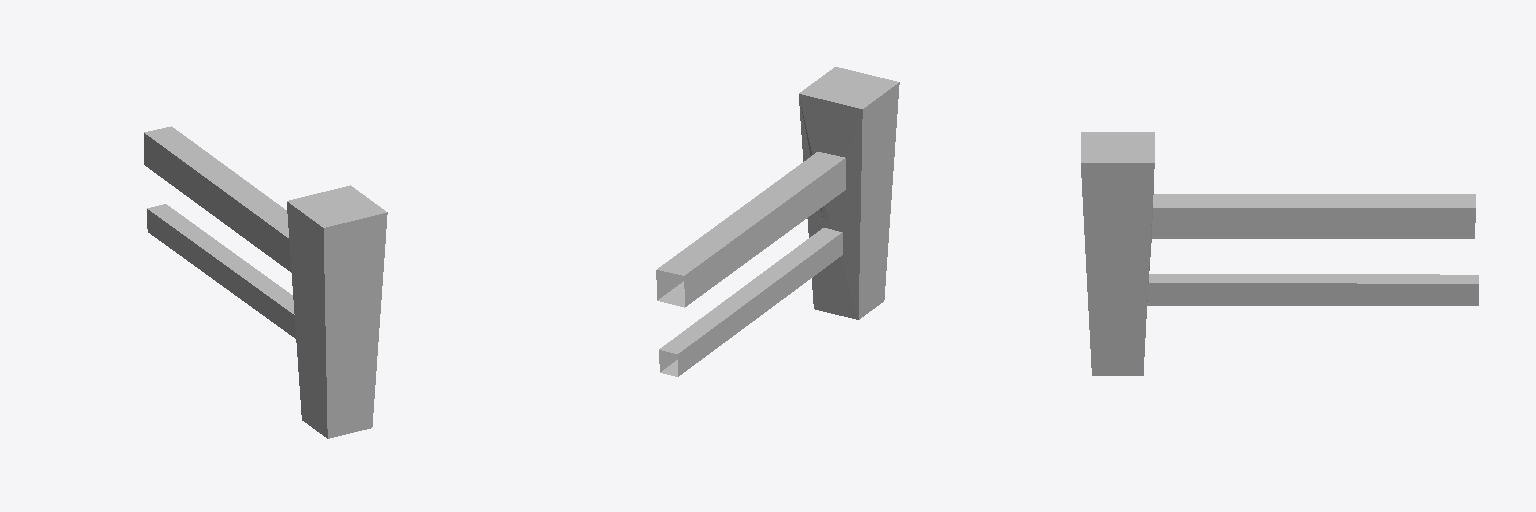
File: fence.obj
3 views of the same model, side by side, from view 1: azimuth 30°, elevation 25°; view 2: azimuth 150°, elevation 25°; view 3: azimuth 270°, elevation 25° (orthographic).
Visible parts, largest first — view 1: Cube.000_Cube.002; view 2: Cube.000_Cube.002; view 3: Cube.000_Cube.002.
Part boxes in pixels (bbox=[...]): Cube.000_Cube.002: bbox=[144, 126, 387, 438]; Cube.000_Cube.002: bbox=[656, 67, 899, 376]; Cube.000_Cube.002: bbox=[1081, 132, 1478, 375].
Size of the model in its own units: 0.2054 by 0.6656 by 1.11.